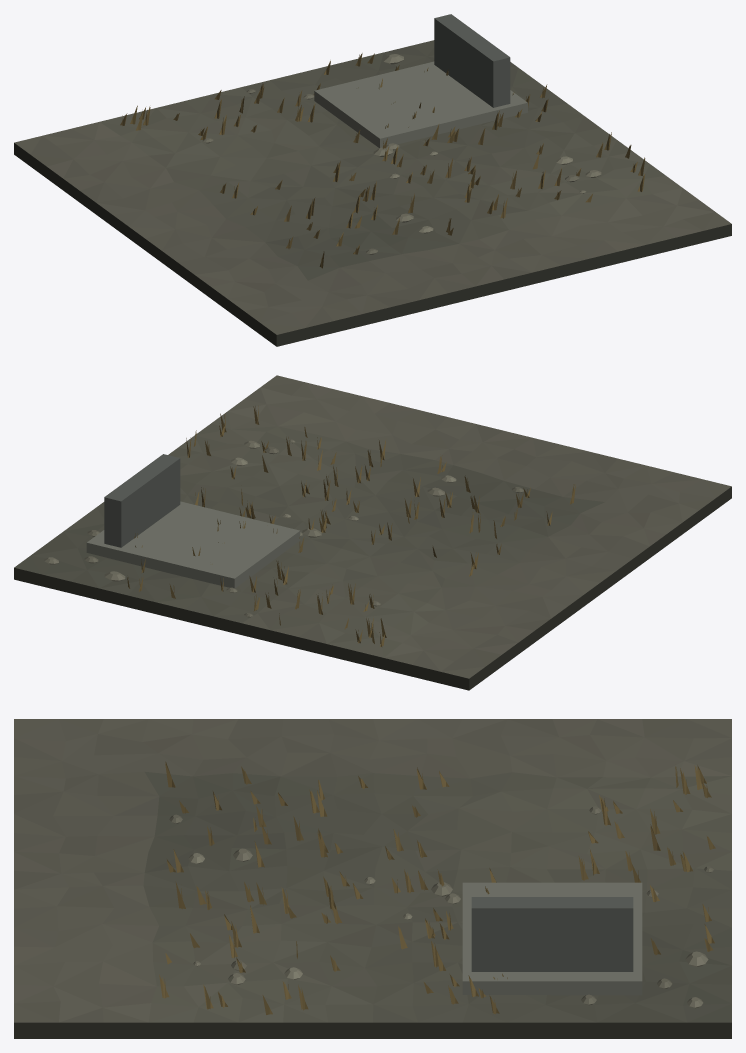
File: CHUNK_ruined_monastery__refuge_records__10.glb
3 views of the same model, one above another, from view 1: azimuth 30°, elevation 25°; view 2: azimuth 150°, elevation 25°; view 3: azimuth 270°, elevation 25° (orthographic). The views are drawn at different scales.
Parts seen in each view (by area): view 1: CHUNK_ruined_monastery__refuge_records__10; view 2: CHUNK_ruined_monastery__refuge_records__10; view 3: CHUNK_ruined_monastery__refuge_records__10.
Part boxes in pixels (bbox=[...]): CHUNK_ruined_monastery__refuge_records__10: bbox=[14, 14, 731, 346]; CHUNK_ruined_monastery__refuge_records__10: bbox=[14, 375, 731, 690]; CHUNK_ruined_monastery__refuge_records__10: bbox=[14, 719, 731, 1038].
Bounding box in the file's own units: 8 × 1.16 × 8.
